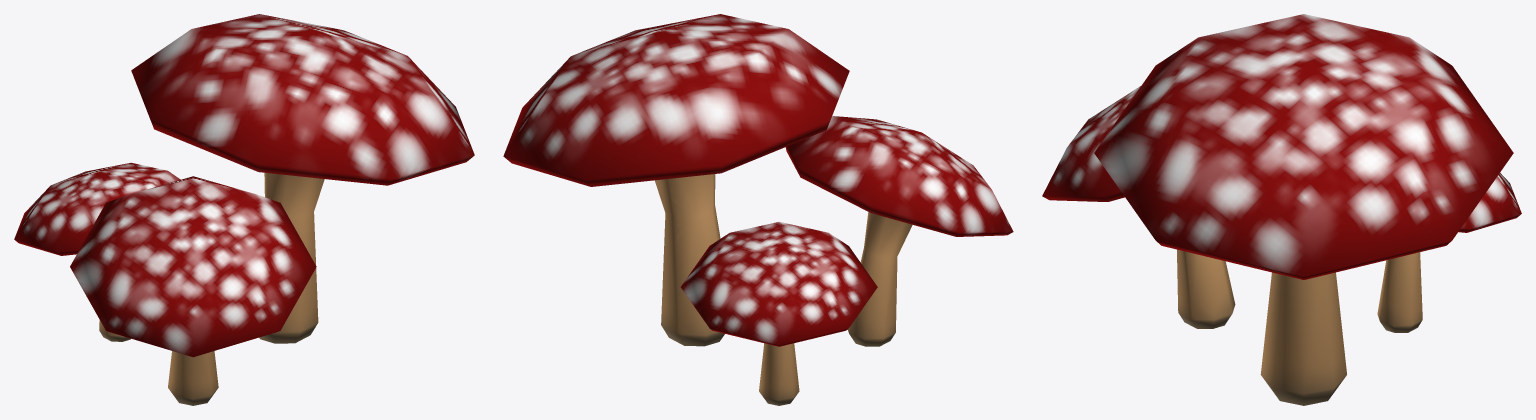
Rendered from mushrooms.FBX.
3 views of the same model, side by side, from view 1: azimuth 30°, elevation 25°; view 2: azimuth 150°, elevation 25°; view 3: azimuth 270°, elevation 25° (orthographic). The views are drawn at different scales.
Parts seen in each view (by area): view 1: mushroomF, mushroomF002, mushroomF001; view 2: mushroomF, mushroomF002, mushroomF001; view 3: mushroomF, mushroomF002, mushroomF001.
Part boxes in pixels (x1,y1,x2,y2): mushroomF: (131, 14, 474, 343); mushroomF002: (70, 176, 316, 405); mushroomF001: (14, 162, 180, 341); mushroomF: (503, 14, 849, 346); mushroomF002: (785, 116, 1013, 346); mushroomF001: (681, 221, 877, 405); mushroomF: (1094, 14, 1513, 405); mushroomF002: (1042, 86, 1235, 328); mushroomF001: (1377, 173, 1521, 332).
Bounding box in the file's own units: 37.09 × 25.55 × 31.59.
